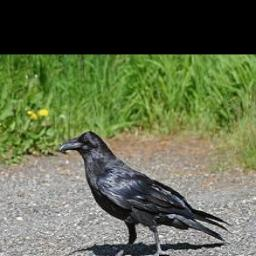Crow: (58, 130, 235, 256)
